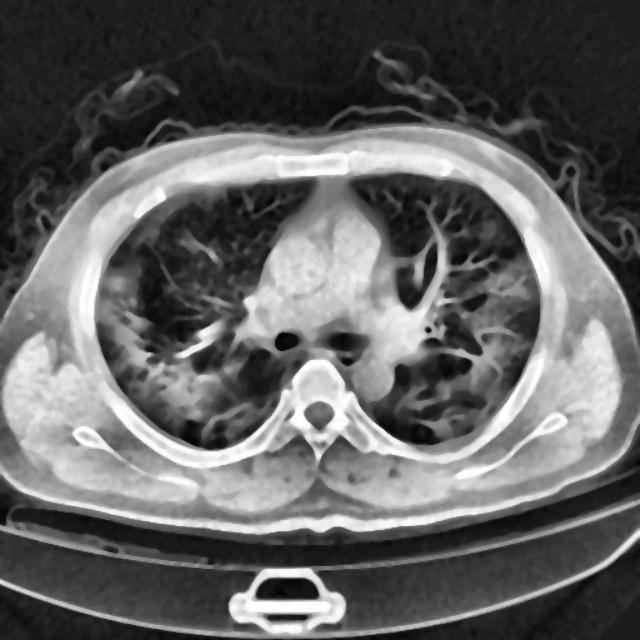covid: (1, 118, 638, 542)
